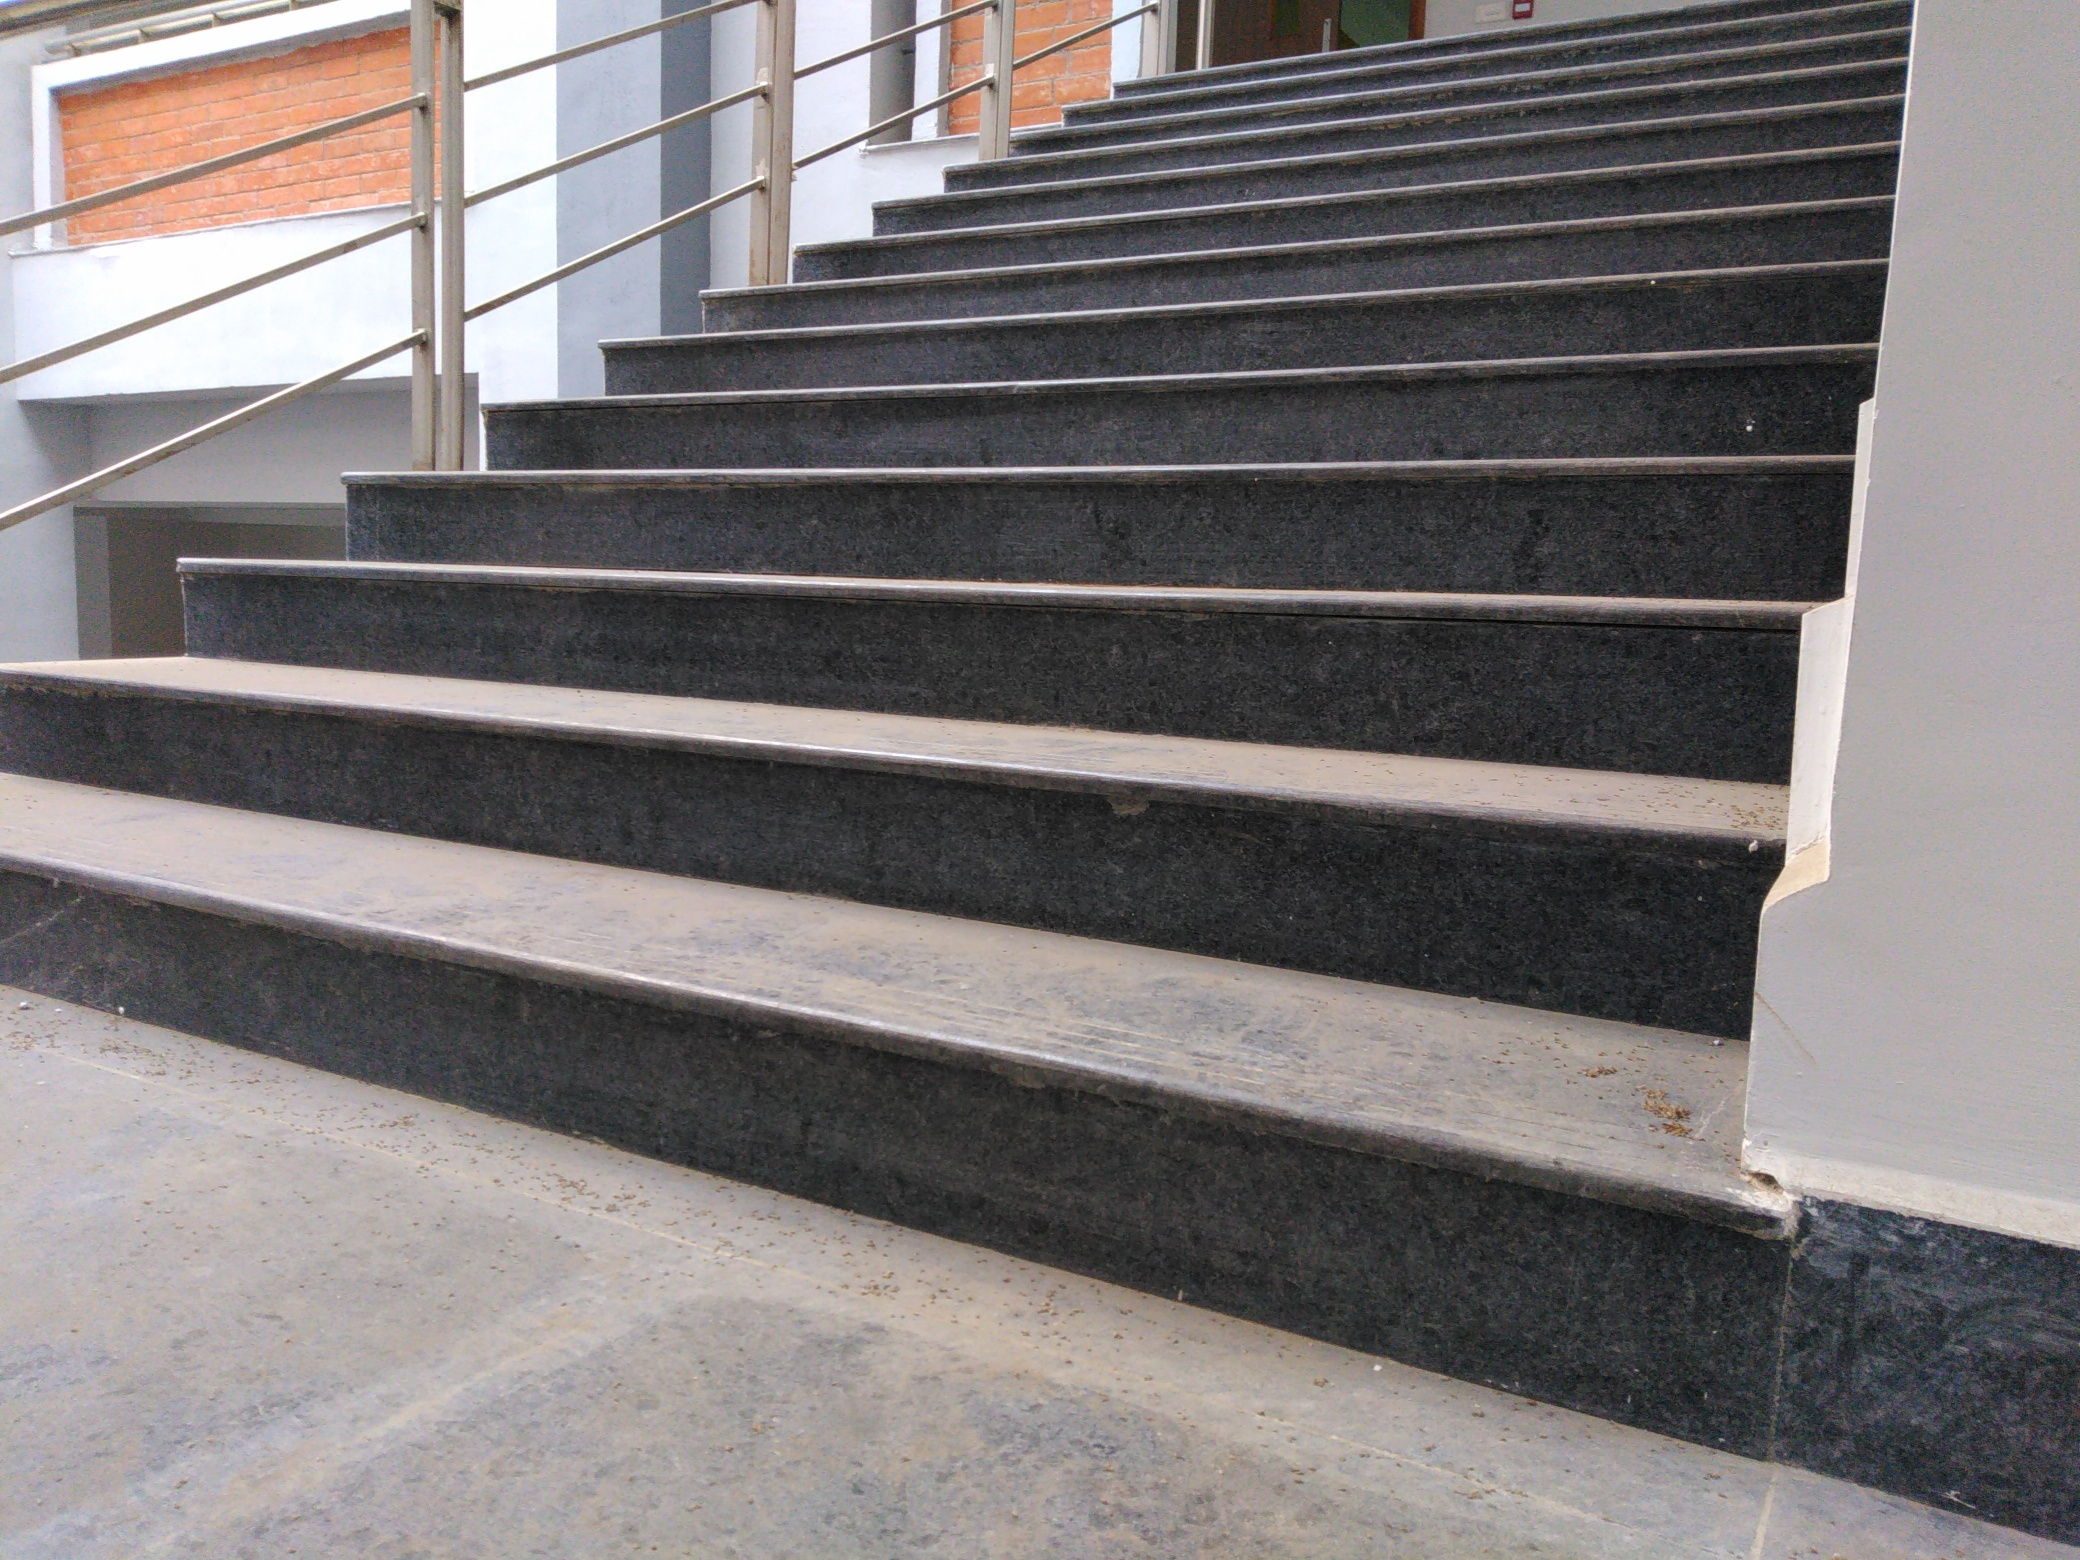stairs_up: (52, 7, 1861, 1232)
